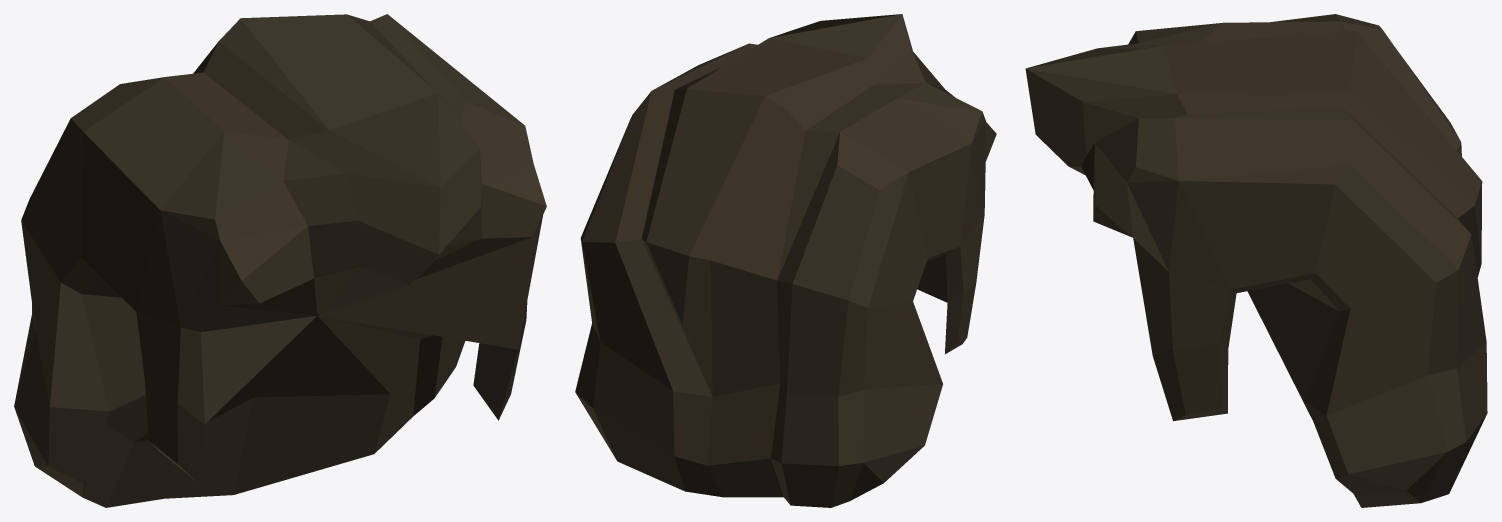
The model's file is SM_Chr_Attach_Hair_Male_03.fbx.
The picture shows the model from 3 angles, left to right: view 1: azimuth 30°, elevation 25°; view 2: azimuth 150°, elevation 25°; view 3: azimuth 270°, elevation 25°; orthographic projection. The views are drawn at different scales.
Parts seen in each view (by area): view 1: SM_Chr_Attach_Hair_Male_03; view 2: SM_Chr_Attach_Hair_Male_03; view 3: SM_Chr_Attach_Hair_Male_03.
Boxes of the visible parts, x1,y1,x2,y2 form: SM_Chr_Attach_Hair_Male_03: (14, 14, 546, 507); SM_Chr_Attach_Hair_Male_03: (575, 14, 996, 507); SM_Chr_Attach_Hair_Male_03: (1025, 14, 1487, 507).
Bounding box in the file's own units: 27.95 × 30.31 × 29.35.
